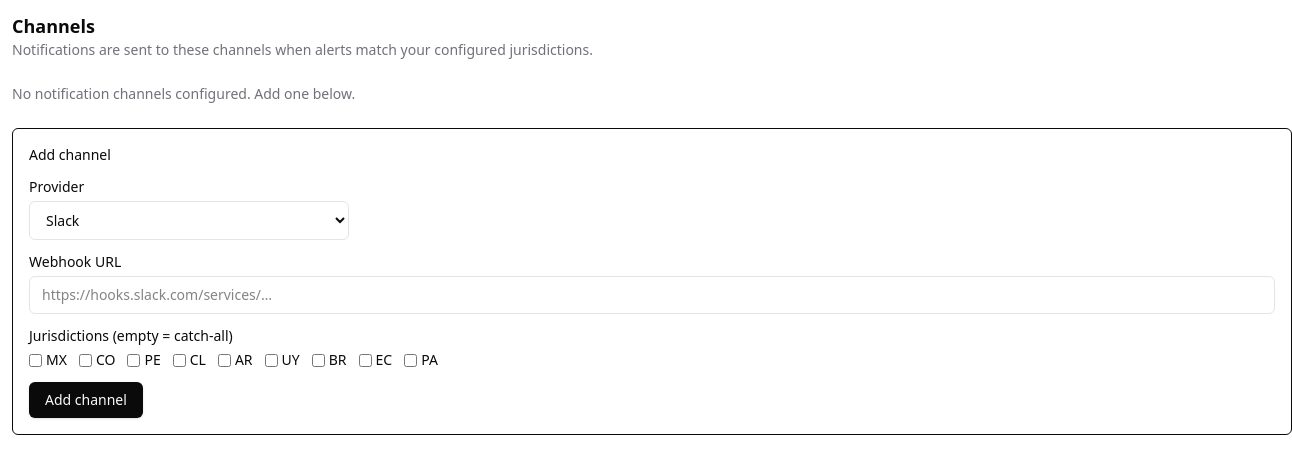
Scenario: <NotificationChannelsSection> › <AddChannelForm> › switches to email input when provider=EMAIL is selected
Select "Email" in the dropdown with test id "add-channel-provider" at (189, 220), box [29,201,349,240]
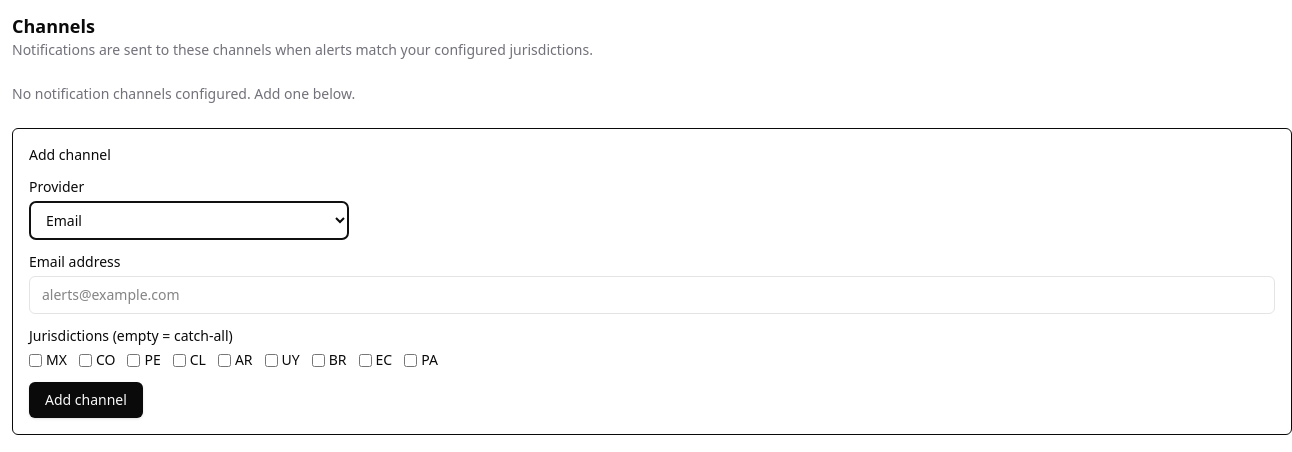
Now the field with test id "add-channel-email" is shown, box [29,276,1275,314]
